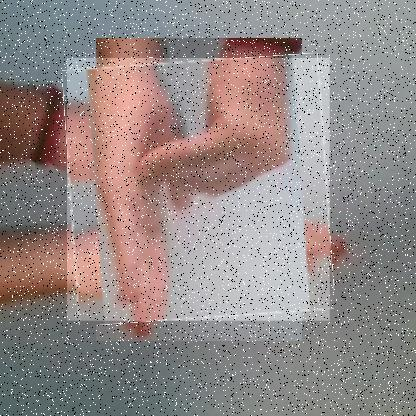Z: (67, 58, 331, 322)
